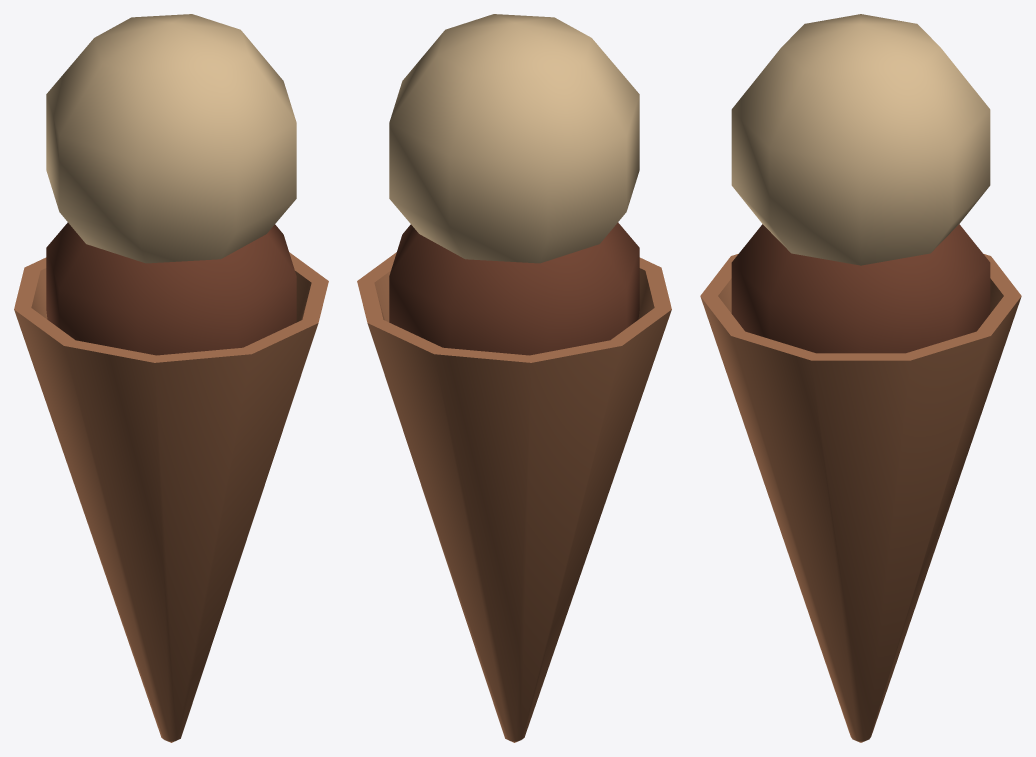
The model's file is IceCreamCone_01.fbx.
3 views of the same model, side by side, from view 1: azimuth 30°, elevation 25°; view 2: azimuth 150°, elevation 25°; view 3: azimuth 270°, elevation 25° (orthographic).
Parts seen in each view (by area): view 1: IceCreamCone_01; view 2: IceCreamCone_01; view 3: IceCreamCone_01.
Part boxes in pixels (bbox=[...]): IceCreamCone_01: bbox=[14, 14, 328, 742]; IceCreamCone_01: bbox=[357, 14, 671, 742]; IceCreamCone_01: bbox=[700, 14, 1021, 742].
Bounding box in the file's own units: 0.0699 × 0.1814 × 0.0735.
